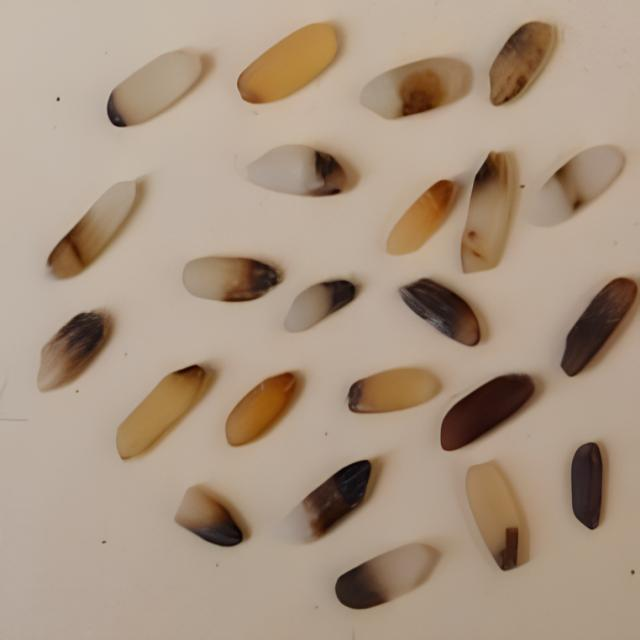Broken: (46, 180, 136, 280), (236, 21, 340, 105), (116, 364, 207, 459), (277, 458, 372, 544), (560, 276, 638, 378), (528, 145, 625, 227), (360, 54, 475, 120), (106, 49, 202, 128), (440, 372, 536, 451), (466, 460, 532, 571), (335, 542, 440, 610), (35, 304, 111, 394), (461, 150, 516, 274), (488, 21, 557, 107), (398, 276, 481, 347), (240, 144, 348, 197), (224, 371, 298, 447), (386, 179, 458, 256), (183, 255, 284, 303), (347, 366, 443, 414), (174, 486, 244, 548), (283, 278, 357, 333), (570, 441, 604, 530)
